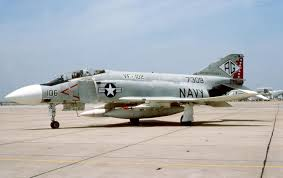fighter: (1, 51, 265, 126)
